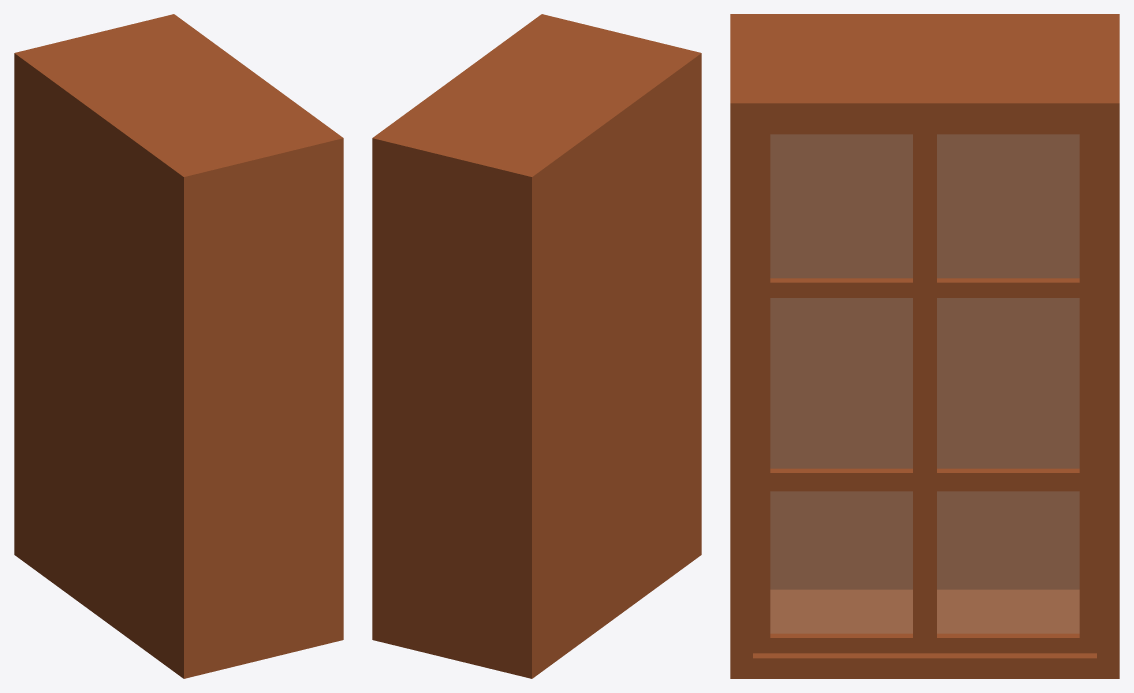
The model's file is GlassDoorShelf.glb.
3 renders of one model, left to right at view 1: azimuth 30°, elevation 25°; view 2: azimuth 150°, elevation 25°; view 3: azimuth 270°, elevation 25°, orthographic. The views are drawn at different scales.
Parts seen in each view (by area): view 1: Cube.001; view 2: Cube.001; view 3: Cube.001.
Boxes of the visible parts, x1,y1,x2,y2 form: Cube.001: (14,14,343,678); Cube.001: (372,14,701,678); Cube.001: (730,14,1119,678).
Size of the model in its own units: 0.3493 by 1.05 by 0.6417.
